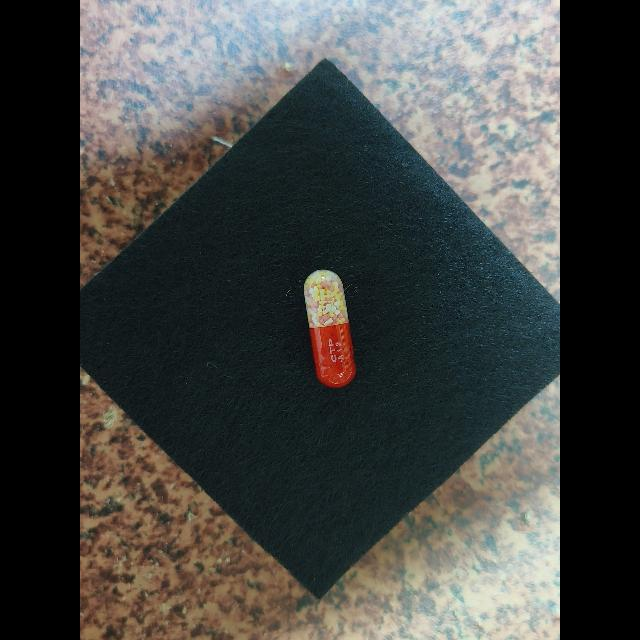Intact Capsule: (304, 269, 356, 388)
